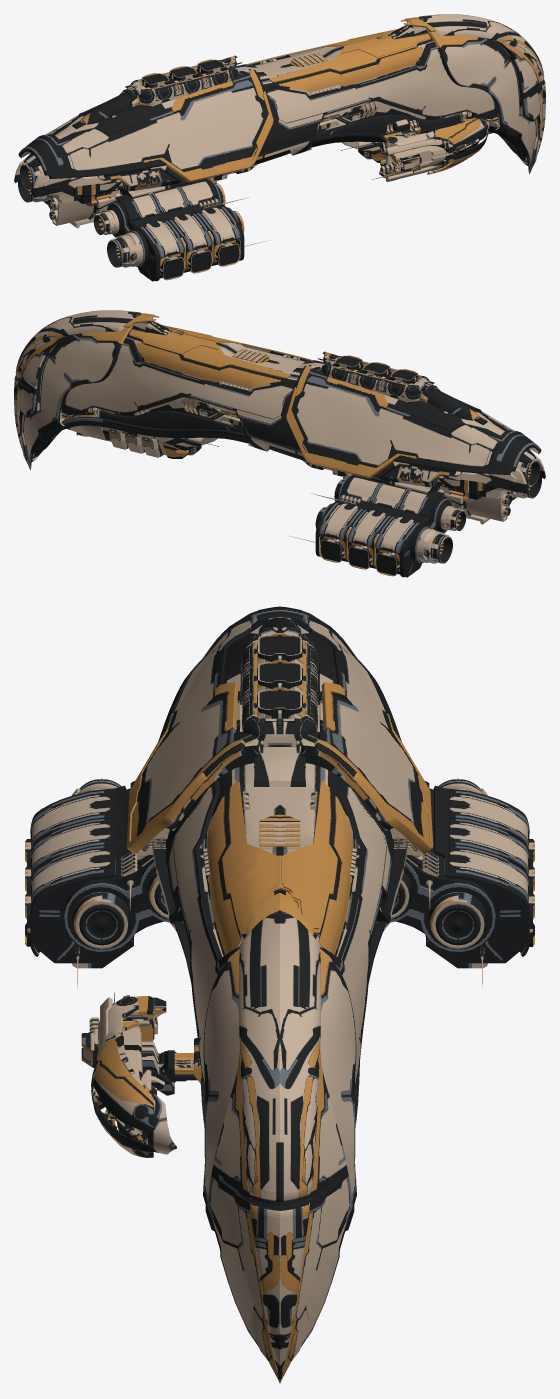
Rendered from omen.glb.
The picture shows the model from 3 angles, top to bottom: view 1: azimuth 30°, elevation 25°; view 2: azimuth 150°, elevation 25°; view 3: azimuth 270°, elevation 25°; orthographic projection. The views are drawn at different scales.
Visible parts, largest first — view 1: Omen; view 2: Omen; view 3: Omen.
Part boxes in pixels (x1,y1,x2,y2): Omen: [14, 14, 545, 281]; Omen: [14, 310, 545, 577]; Omen: [25, 606, 534, 1383].
Bounding box in the file's own units: 297 × 102 × 126.
Materials: 1 (1 with a texture image).
